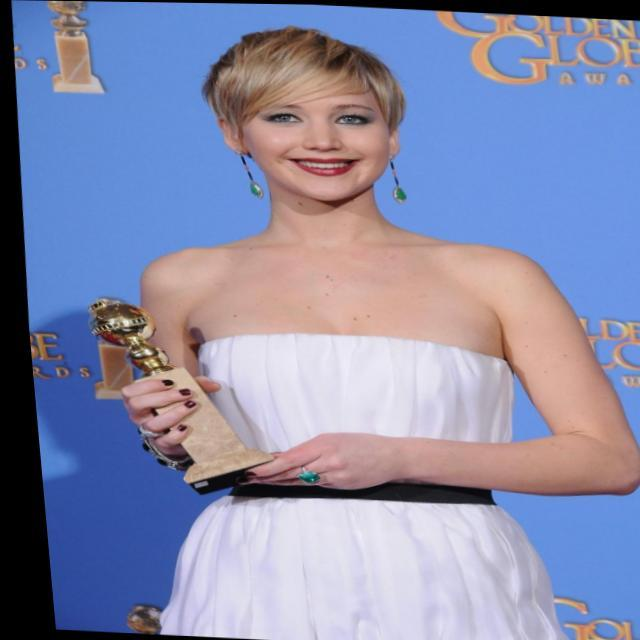Nonhelmet: (200, 24, 408, 205)
